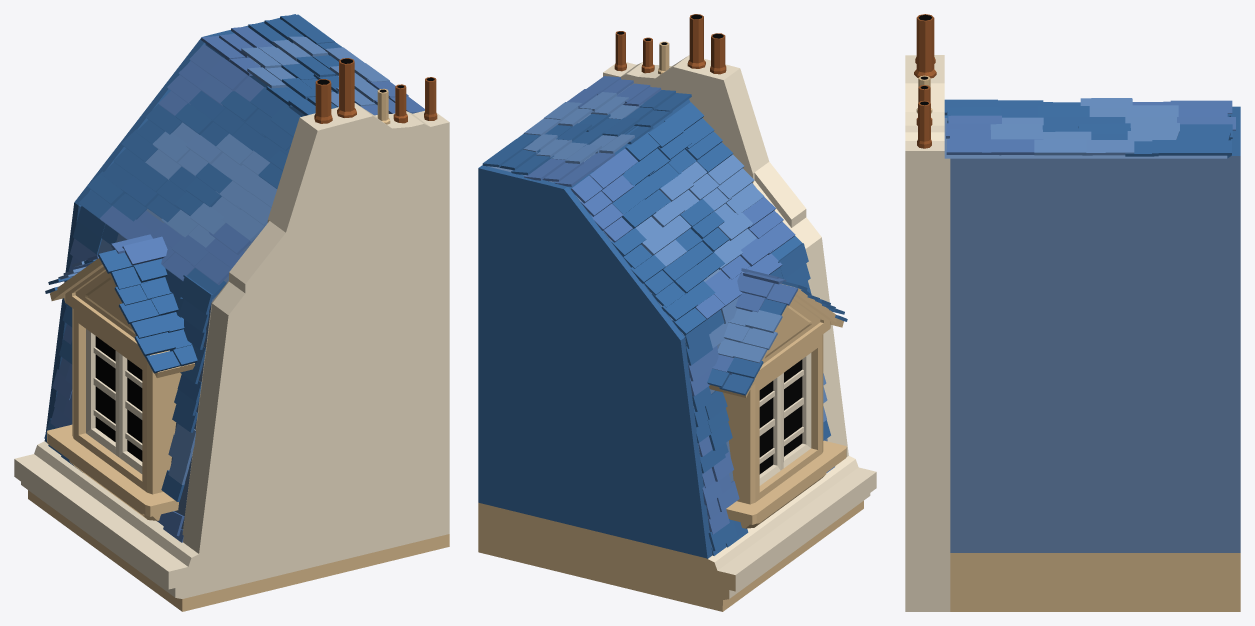
Rendered from RoofEdge_C_1.fbx.
3 views of the same model, side by side, from view 1: azimuth 30°, elevation 25°; view 2: azimuth 150°, elevation 25°; view 3: azimuth 270°, elevation 25° (orthographic). The views are drawn at different scales.
Visible parts, largest first — view 1: RoofEdge_C_1; view 2: RoofEdge_C_1; view 3: RoofEdge_C_1.
Part boxes in pixels (x1,y1,x2,y2): RoofEdge_C_1: (14, 14, 449, 611); RoofEdge_C_1: (478, 14, 876, 611); RoofEdge_C_1: (905, 14, 1240, 611).
Size of the model in its own units: 210 by 200 by 359.
